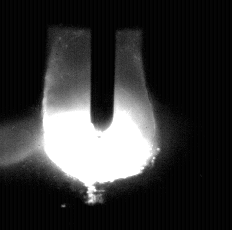arame: (92, 0, 115, 138)
poca: (43, 0, 157, 230)
